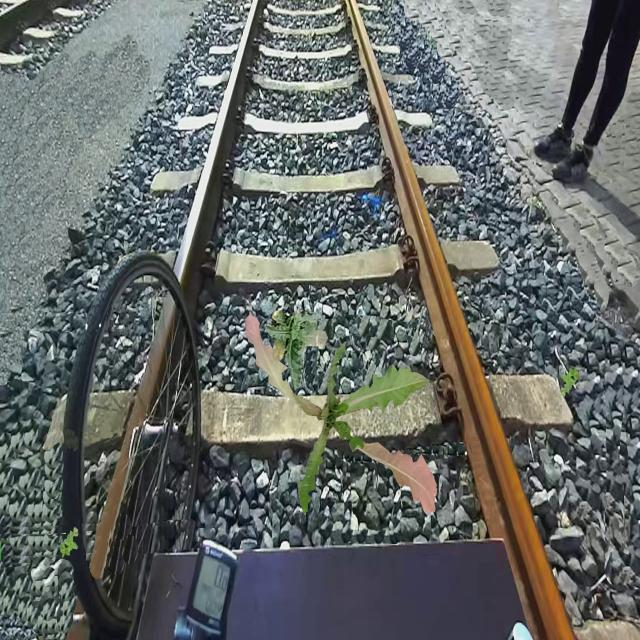Plant: (245, 314, 438, 516), (265, 310, 328, 393), (560, 364, 580, 396), (59, 527, 78, 560)
